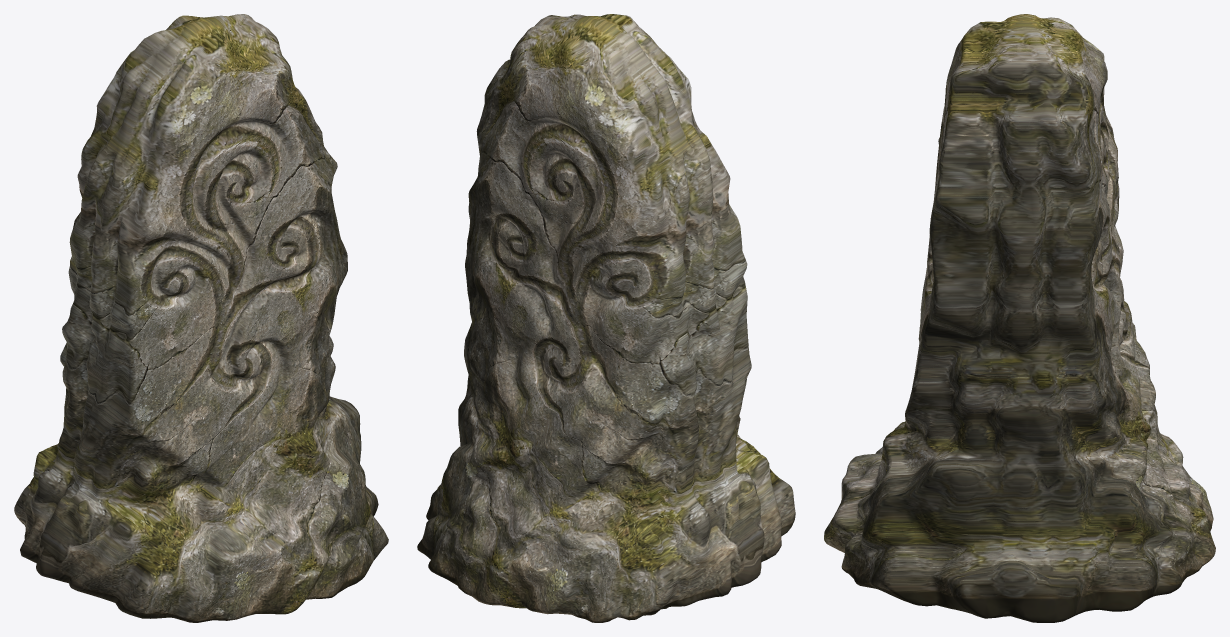
File: runestone-v1.glb
3 renders of one model, left to right at view 1: azimuth 30°, elevation 25°; view 2: azimuth 150°, elevation 25°; view 3: azimuth 270°, elevation 25°, orthographic. The views are drawn at different scales.
Parts seen in each view (by area): view 1: tmpz89jsl5c.ply; view 2: tmpz89jsl5c.ply; view 3: tmpz89jsl5c.ply.
Part boxes in pixels (x1,y1,x2,y2): tmpz89jsl5c.ply: [14, 14, 388, 622]; tmpz89jsl5c.ply: [417, 14, 795, 622]; tmpz89jsl5c.ply: [824, 14, 1215, 622].
Bounding box in the file's own units: 1.25 × 1.99 × 1.33.
1 material, 1 textured.
